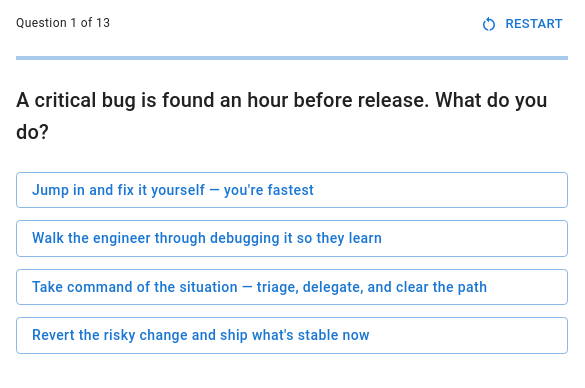
Test: SurveyPage › advances to the next question when an answer is clicked
Click the button "Jump in and fix it yourself — you're fastest" at (292, 190), box [16, 172, 568, 208]
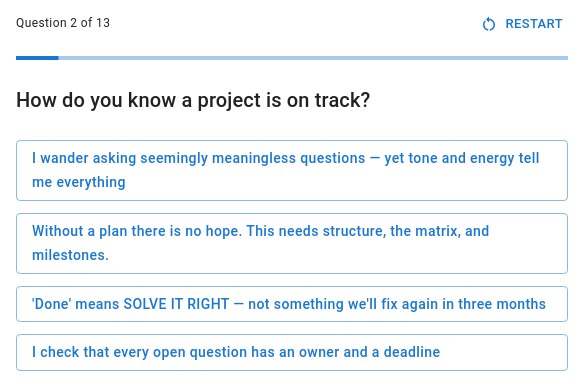
Check: the heading "How do you know a project is on track?" is shown, box [16, 88, 370, 112]
